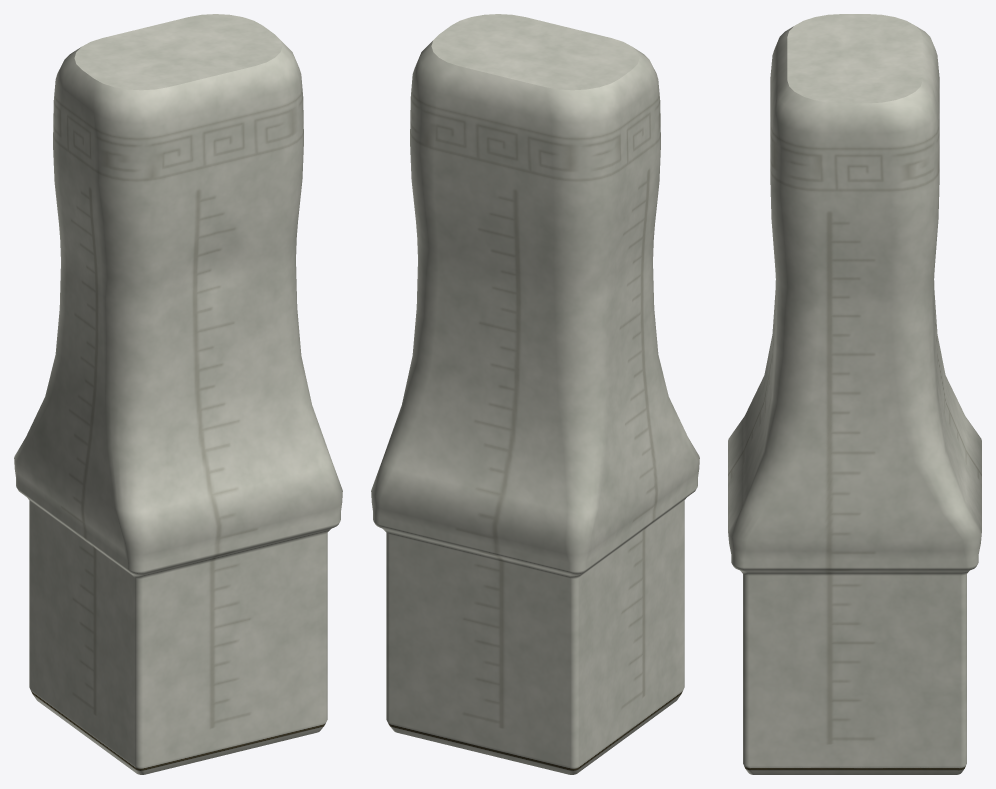
File: MasterTenon_R03.glb
3 views of the same model, side by side, from view 1: azimuth 30°, elevation 25°; view 2: azimuth 150°, elevation 25°; view 3: azimuth 270°, elevation 25° (orthographic).
Visible parts, largest first — view 1: MasterTenon_LOD0; view 2: MasterTenon_LOD0; view 3: MasterTenon_LOD0.
Part boxes in pixels (x1,y1,x2,y2): MasterTenon_LOD0: (14,14,342,774); MasterTenon_LOD0: (371,14,699,774); MasterTenon_LOD0: (728,14,981,774).
Bounding box in the file's own units: 0.12 × 0.35 × 0.12.
Materials: 1 (1 with a texture image).
